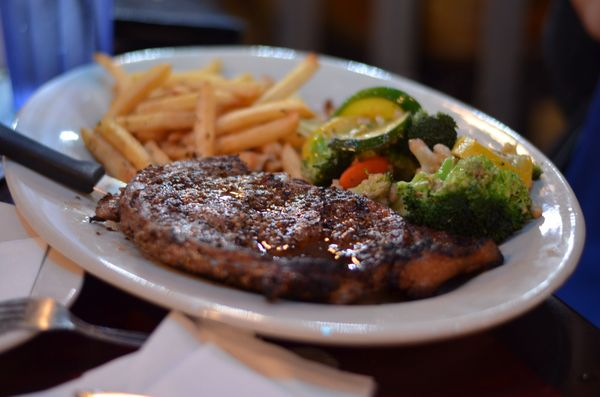curry: (394, 153, 538, 245)
